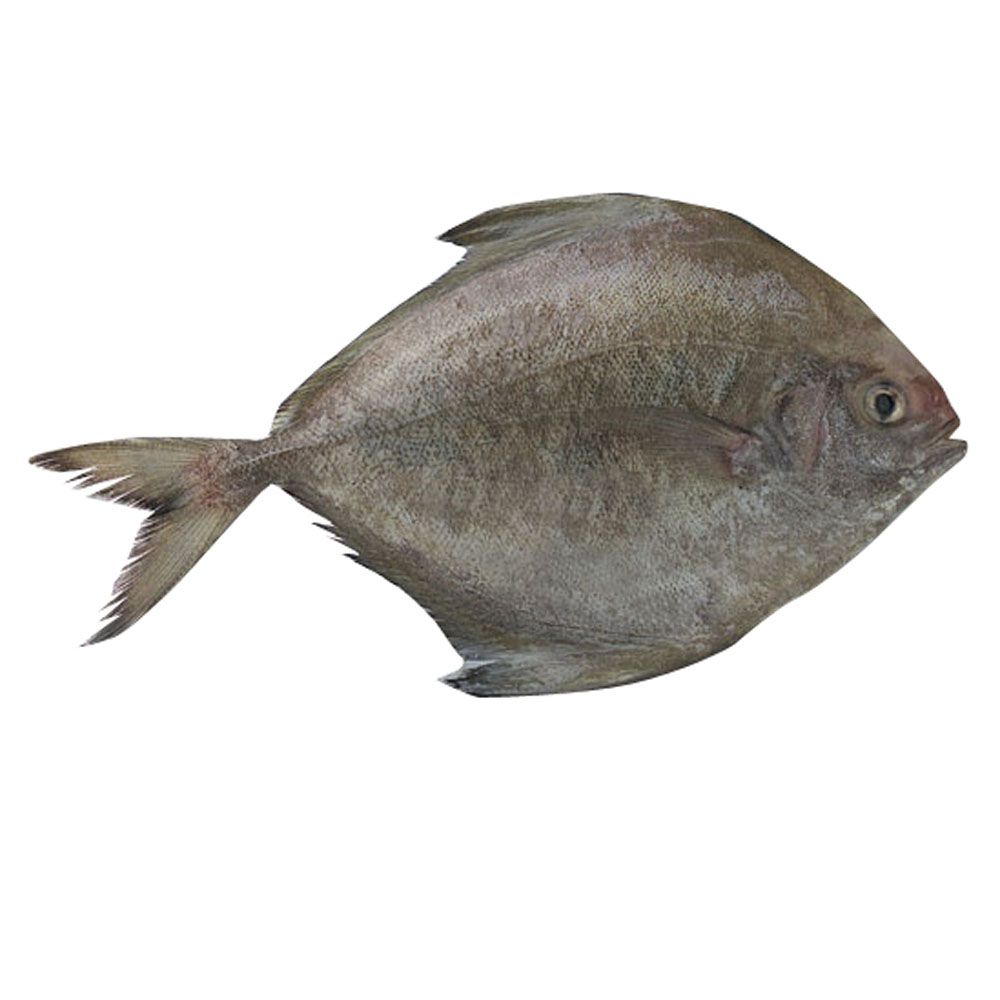Ikan Bawal: (35, 190, 971, 717)
